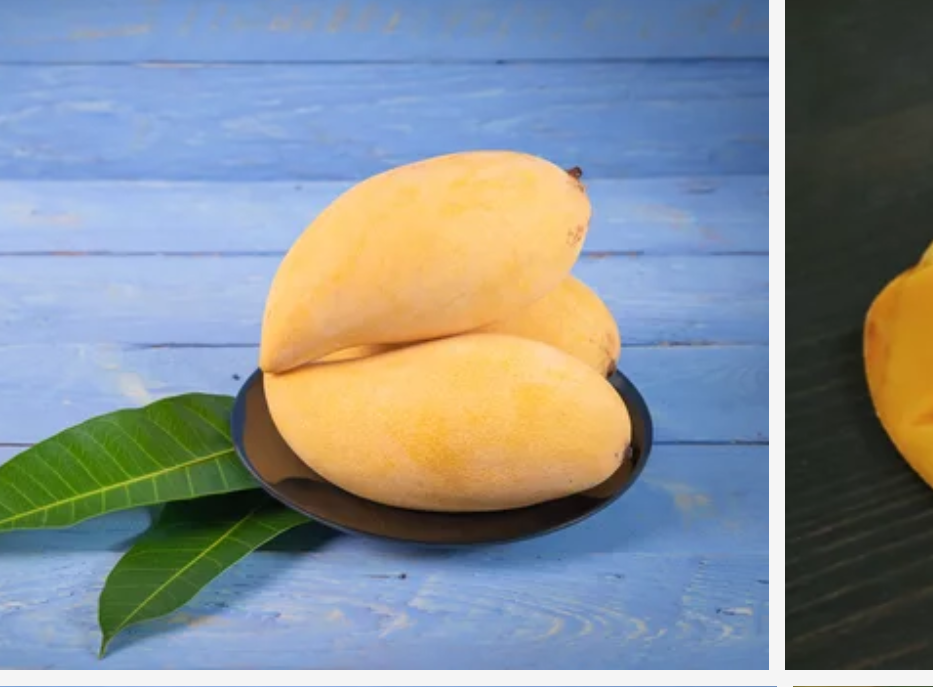mango: (260, 147, 591, 373), (250, 336, 631, 510)
